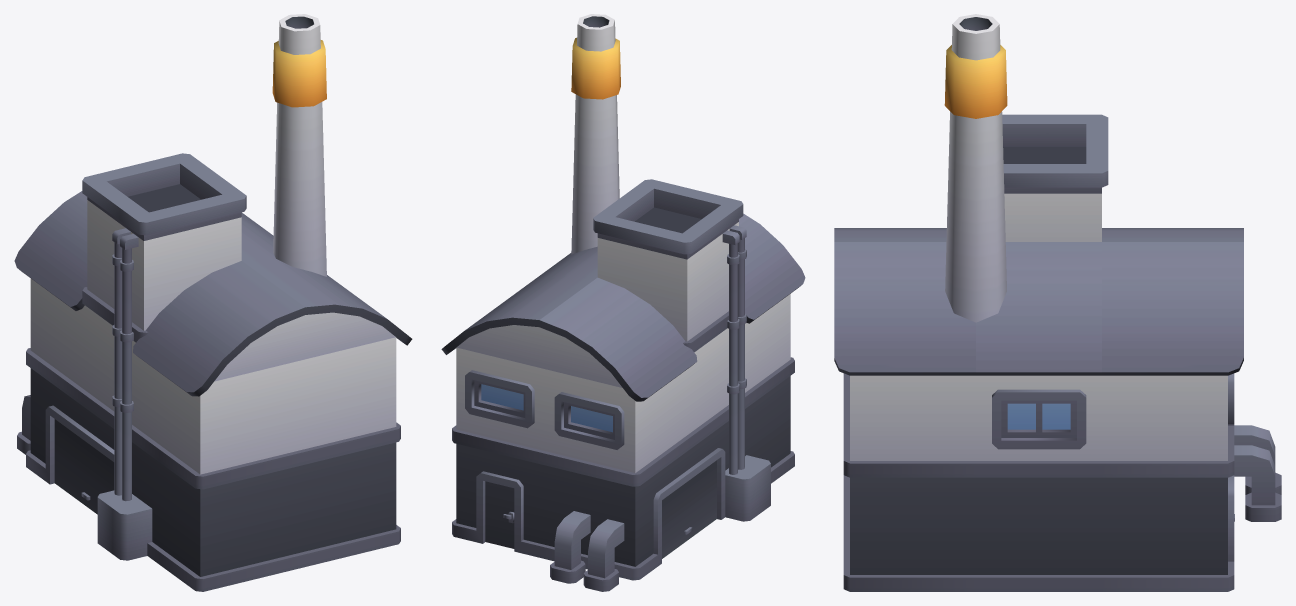
Rendered from building-n.glb.
The picture shows the model from 3 angles, left to right: view 1: azimuth 30°, elevation 25°; view 2: azimuth 150°, elevation 25°; view 3: azimuth 270°, elevation 25°; orthographic projection. The views are drawn at different scales.
Visible parts, largest first — view 1: building-n; view 2: building-n; view 3: building-n.
Part boxes in pixels (x1=…): building-n: x1=14, y1=14, x2=412, y2=591; building-n: x1=441, y1=14, x2=805, y2=591; building-n: x1=834, y1=14, x2=1281, y2=591.
Bounding box in the file's own units: 0.9766 × 1.9 × 1.42.
1 material, 1 textured.
